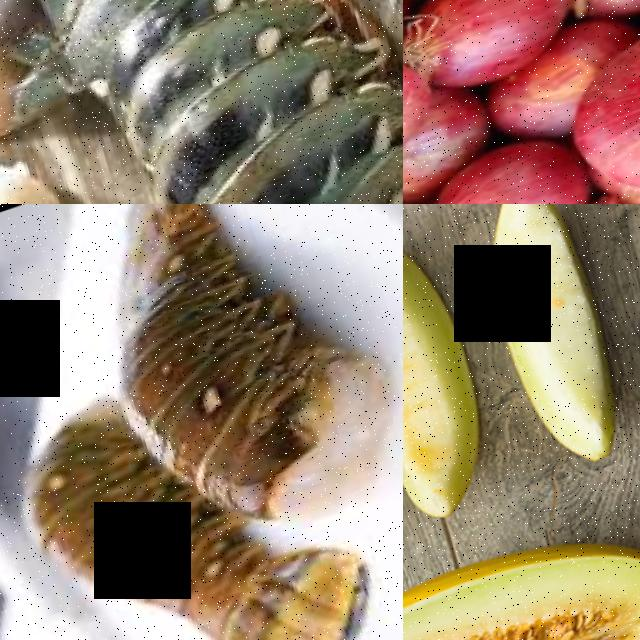lobster tails: (67, 204, 393, 542), (12, 0, 403, 204), (104, 492, 403, 640)
melon: (454, 204, 640, 491), (403, 204, 509, 540), (403, 491, 640, 640)
onion: (545, 0, 640, 204), (403, 0, 586, 103), (417, 125, 596, 204), (403, 38, 439, 168)
